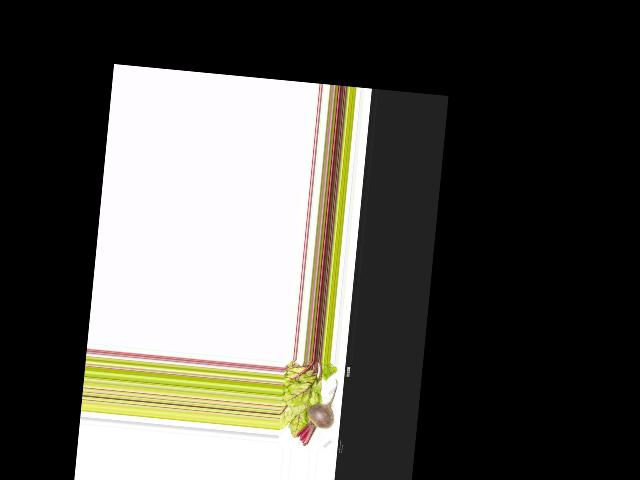beet: (295, 376, 338, 448)
